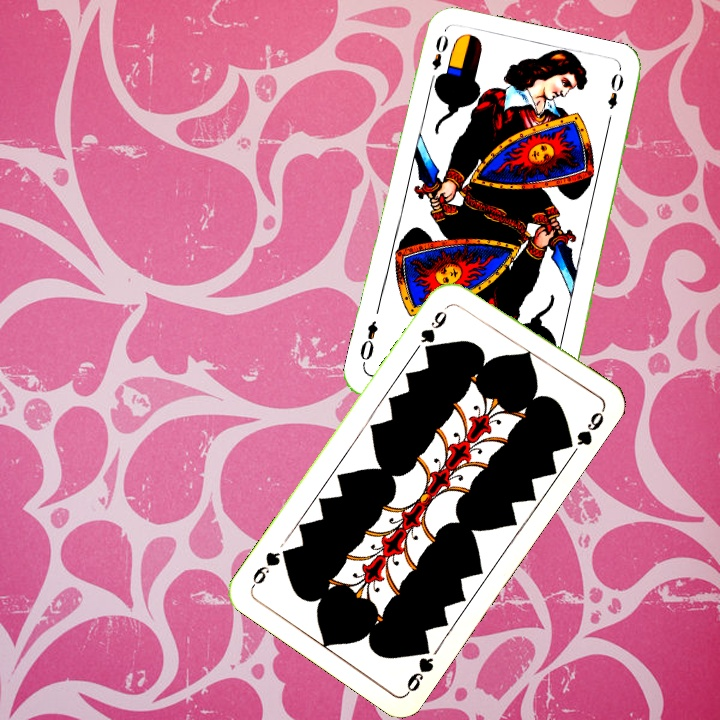EO: (425, 30, 451, 88)
G9: (416, 300, 454, 356), (402, 638, 437, 697)
